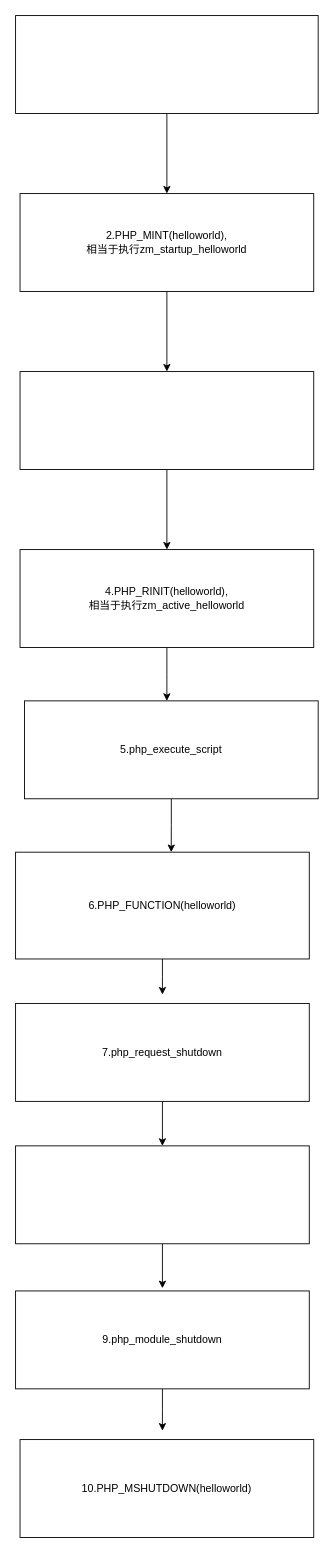
Some shapes in this 334 by 1553 pixel diagram are drawn without their labels. The centre of each missing label's shape, as x and y in pixels:
"1.php_module_startup" belongs at pixel 166 64.
"3.php_request_startup" belongs at pixel 166 420.
"8.PHP_RSHUTDOWN(helloworld)" belongs at pixel 162 1194.
